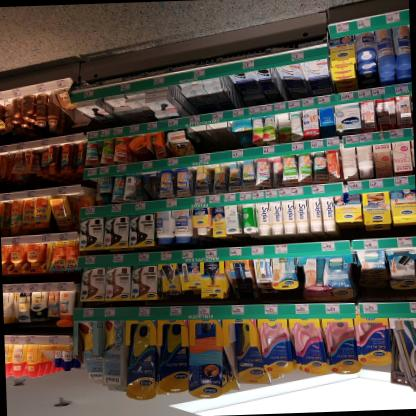empty_space: (192, 114, 234, 152)
